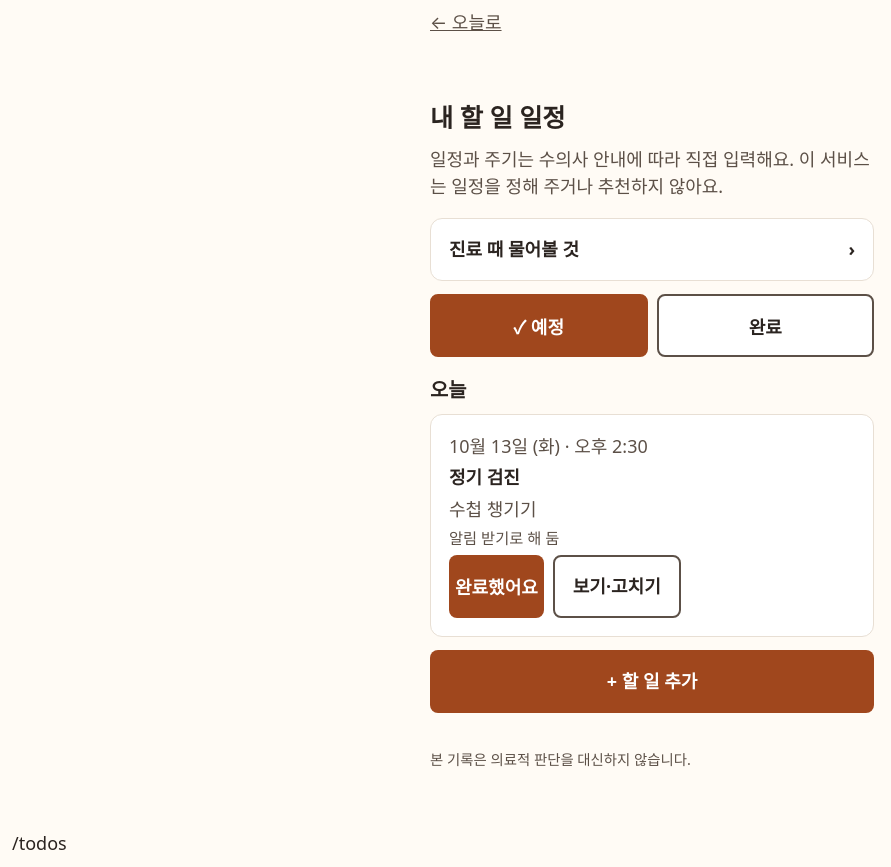
Test: 할 일 목록 — 예정 › 완료 체크 중 404(이미 지워짐): 안내하고 목록을 다시 불러온다
Step 1. Click the button with aria-label "완료했어요, 정기 검진" → (496, 586), box [449,555,544,618]
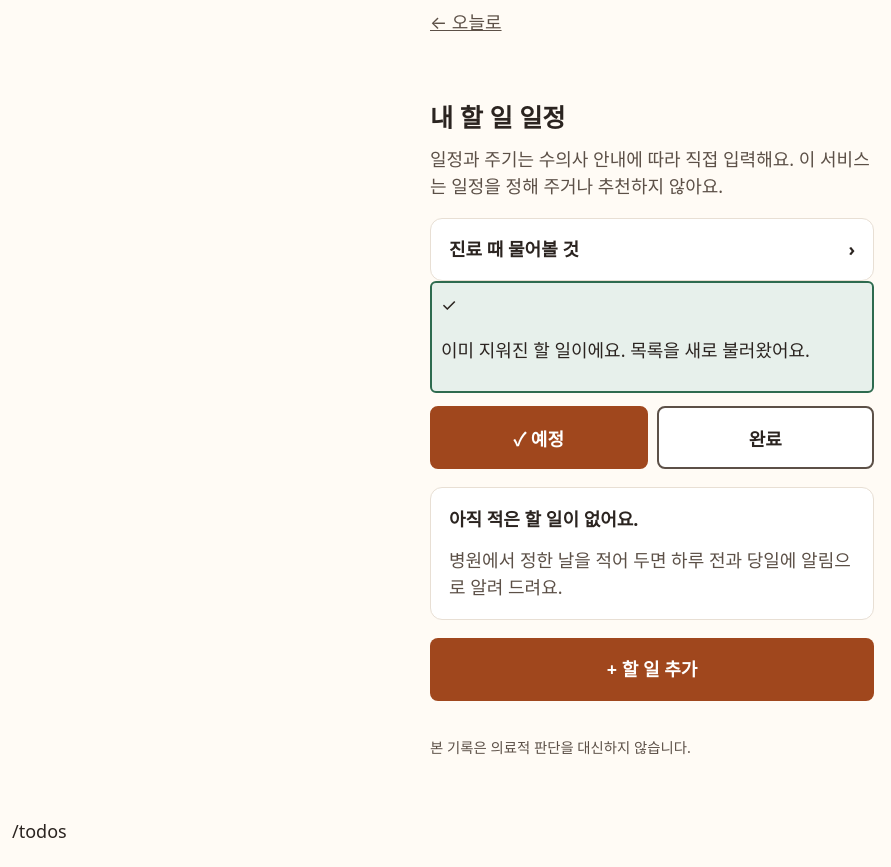
Check: the text "아직 적은 할 일이 없어요." is shown, box [449,507,638,531]
Check: the message reads "이미 지워진 할 일이에요. 목록을 새로 불러왔어요.", box [441,338,810,362]
